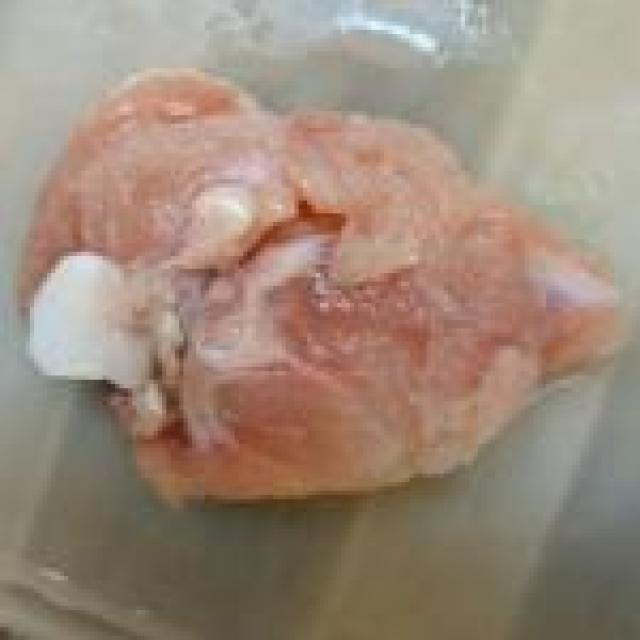breast: (18, 72, 614, 508)
